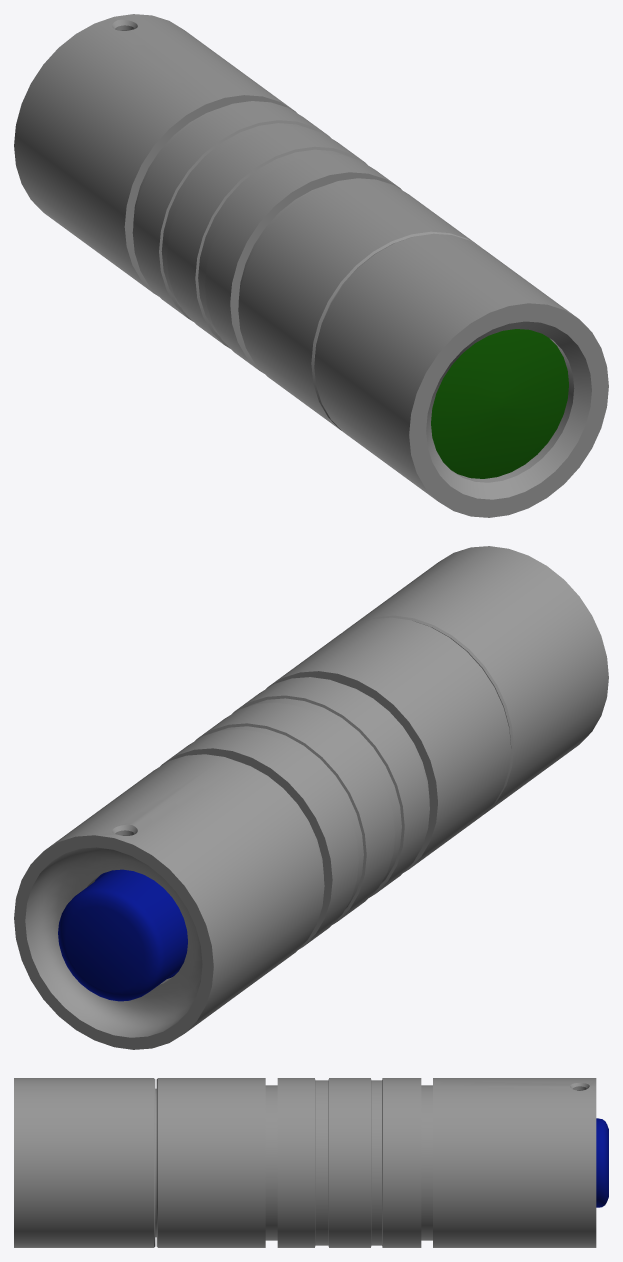
Rendered from Flashlight G2V3.FBX.
3 views of the same model, one above another, from view 1: azimuth 30°, elevation 25°; view 2: azimuth 150°, elevation 25°; view 3: azimuth 270°, elevation 25° (orthographic). The views are drawn at different scales.
Visible parts, largest first — view 1: Mat1_Body Bottom, Mat1_Body Top, Mat4_Glass; view 2: Mat1_Body Bottom, Mat1_Body Top, Mat2_Button; view 3: Mat1_Body Bottom, Mat1_Body Top, Mat2_Button.
Boxes of the visible parts, x1=… form: Mat1_Body Bottom: x1=14, y1=14, x2=482, y2=430; Mat1_Body Top: x1=314, y1=233, x2=608, y2=517; Mat4_Glass: x1=431, y1=329, x2=568, y2=478; Mat1_Body Bottom: x1=14, y1=617, x2=511, y2=1049; Mat1_Body Top: x1=343, y1=546, x2=608, y2=814; Mat2_Button: x1=58, y1=869, x2=187, y2=1001; Mat1_Body Bottom: x1=155, y1=1078, x2=596, y2=1247; Mat1_Body Top: x1=14, y1=1078, x2=155, y2=1247; Mat2_Button: x1=596, y1=1118, x2=608, y2=1207.
Size of the model in its own units: 2.56 by 2.56 by 8.96.
